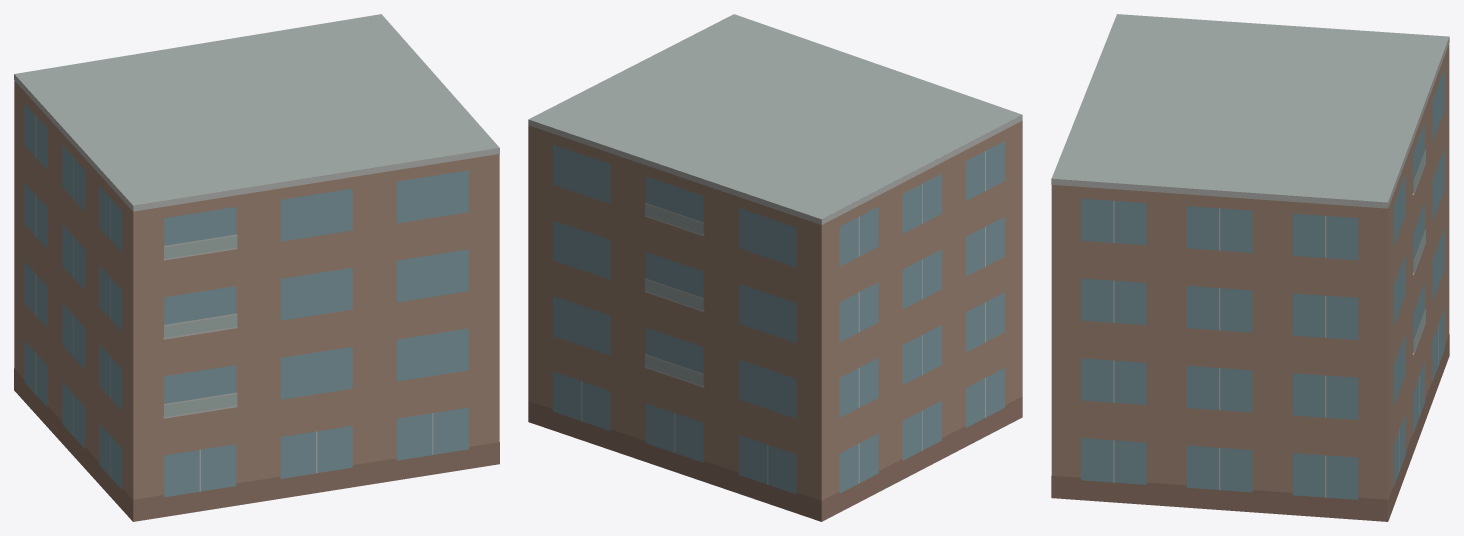
The model's file is survey-upis-32801417.glb.
The picture shows the model from 3 angles, left to right: view 1: azimuth 30°, elevation 25°; view 2: azimuth 150°, elevation 25°; view 3: azimuth 270°, elevation 25°; orthographic projection. The views are drawn at different scales.
Parts seen in each view (by area): view 1: survey-upis-32801417.tmp; view 2: survey-upis-32801417.tmp; view 3: survey-upis-32801417.tmp.
Part boxes in pixels (x1,y1,x2,y2): survey-upis-32801417.tmp: (14,14,499,521); survey-upis-32801417.tmp: (528,14,1022,521); survey-upis-32801417.tmp: (1051,14,1449,521).
Bounding box in the file's own units: 16.22 × 12.8 × 14.47.
